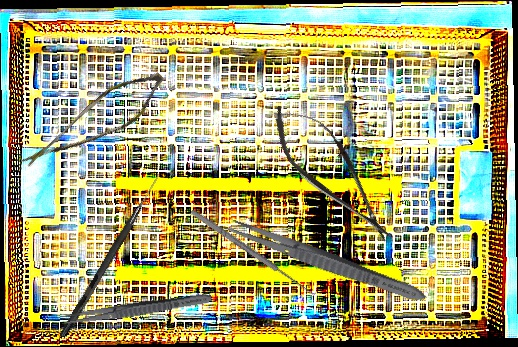Dressing Forceps: (217, 213, 430, 308), (60, 290, 213, 329)
Hook Surgical: (59, 171, 162, 340), (188, 203, 321, 299)
Micro Scissor: (257, 89, 409, 257), (20, 49, 172, 198)
